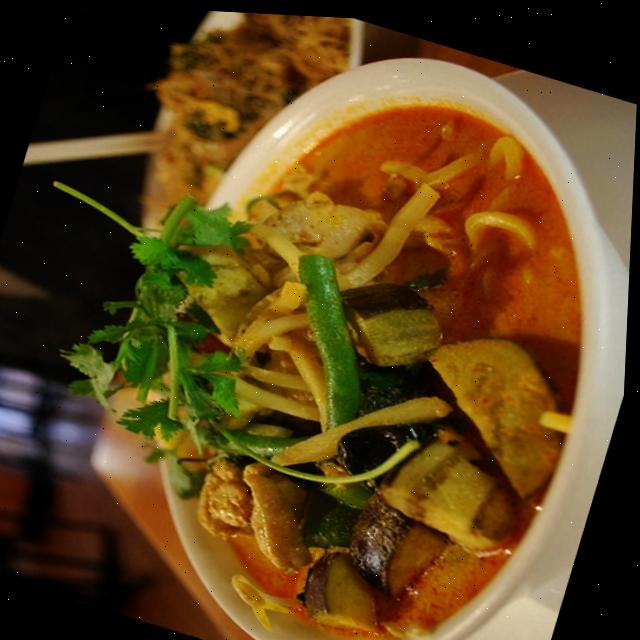面条主食: (56, 3, 640, 640)
